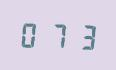seven: (45, 19, 70, 50)
three: (71, 20, 96, 51)
zero: (18, 18, 43, 49)
